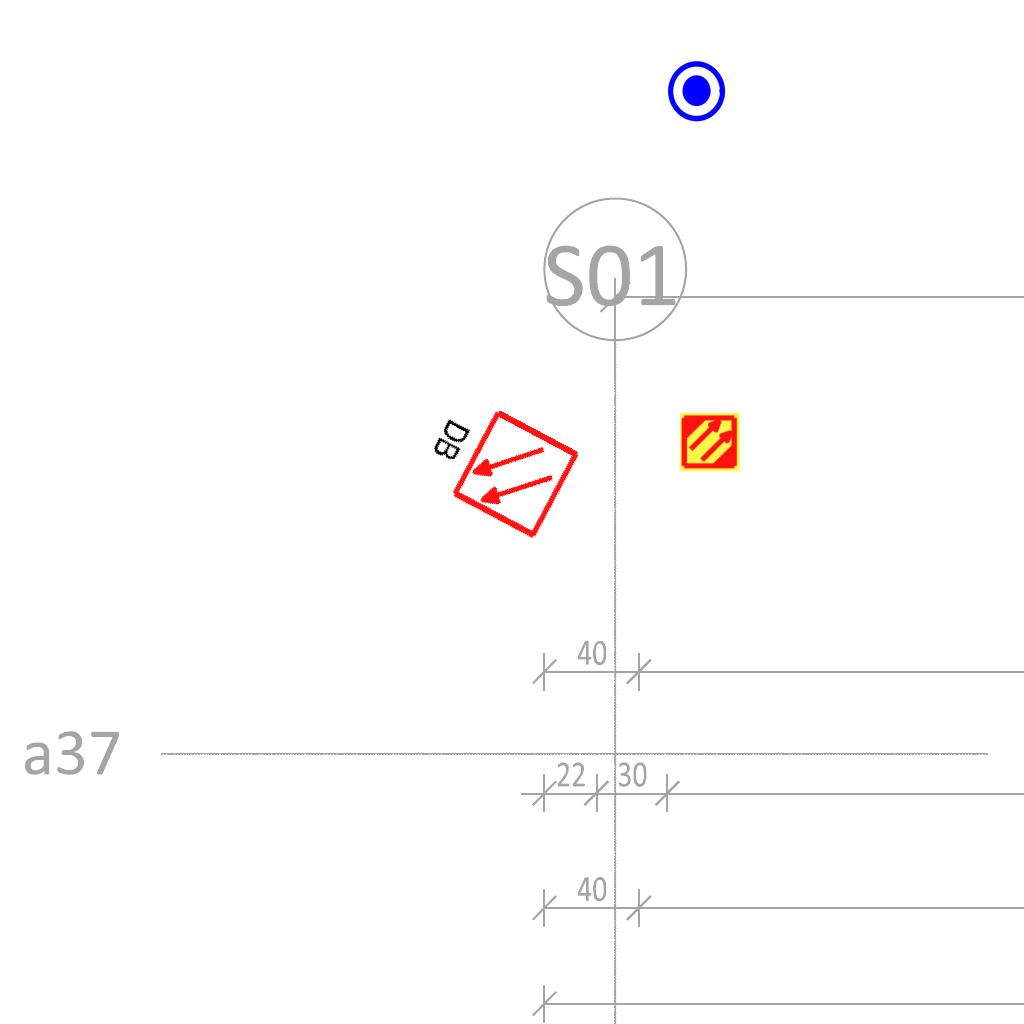ASR_Ansaugrauchmelder: (679, 411, 741, 473)
DB_Melder_in_Doppelboden_mit_Revisionsoeffnung_mind_40_x_40_cm: (404, 380, 590, 551)
Taster: (666, 58, 732, 124)
